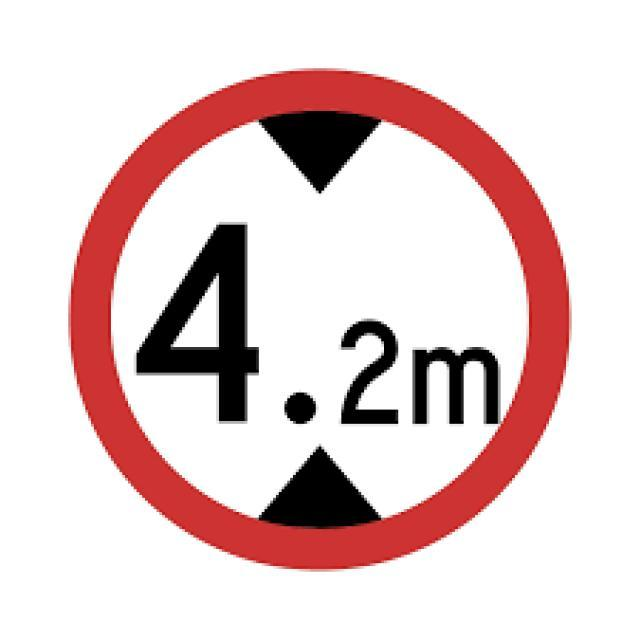height limit: (65, 67, 577, 575)
